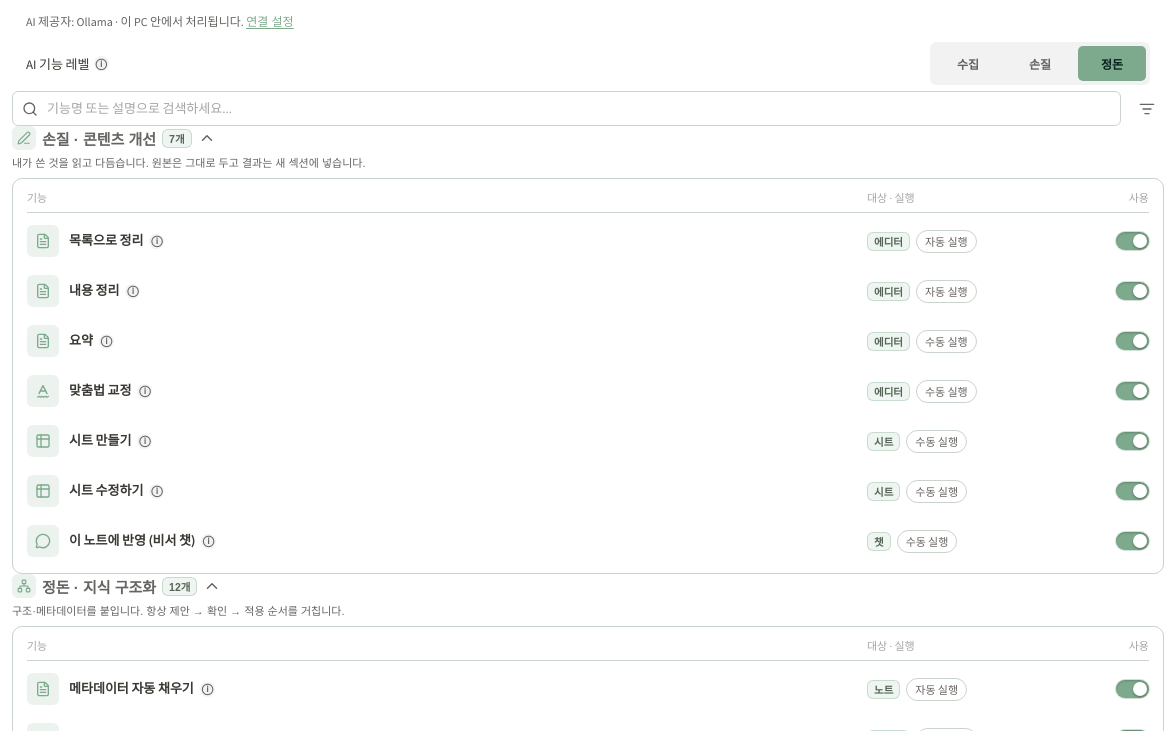
Challenger M4: AiCapabilityCatalog Empirical Adversarial Challenge › 2. Target Filter Toggling & Combination Matrix › 2.5 filters strictly by 'chat' target
Click the button with test id "ai-capability-filter-button": (1146, 108) [1129,91,1164,126]
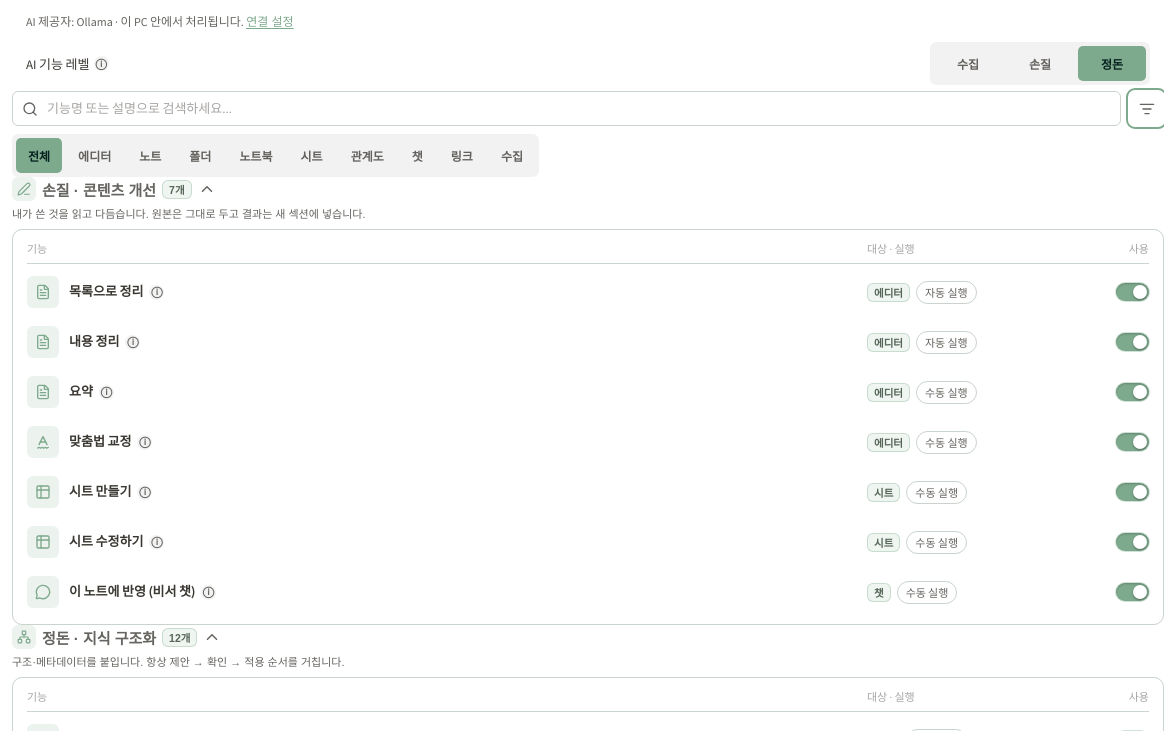
Click the radio button labelled "챗": (417, 156) [400,138,435,173]
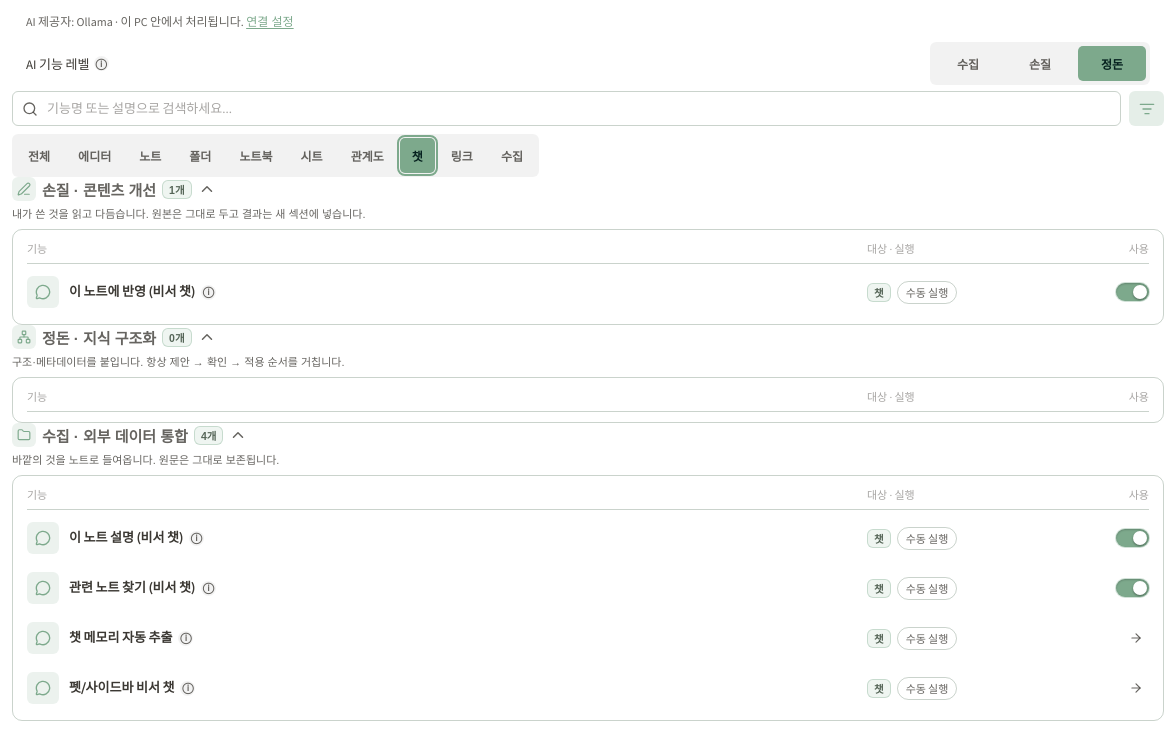
Expected: the element with test id "ai-capability-row-ask_note" is shown, [27,516,1149,560]
Expected: the element with test id "ai-capability-row-find_related" is shown, [27,566,1149,610]
Expected: the element with test id "ai-capability-row-list" is gone
